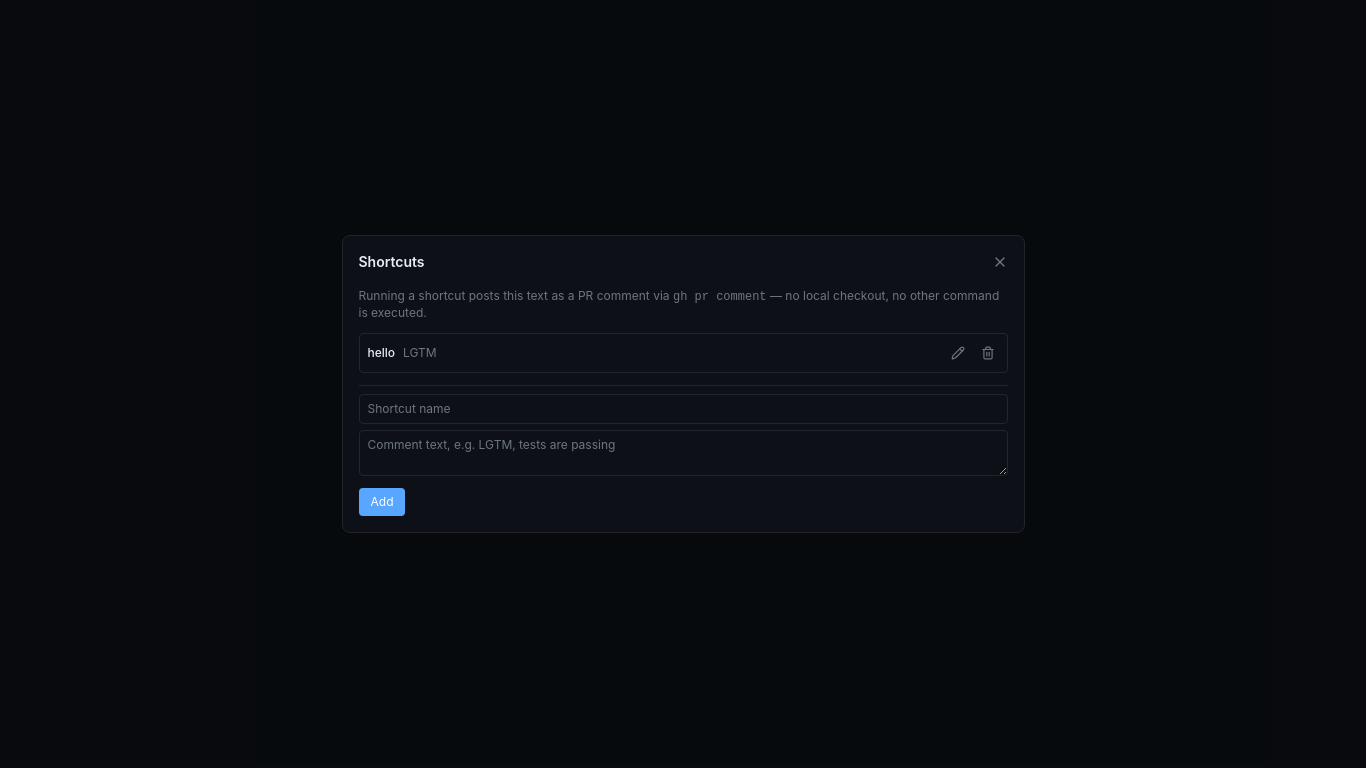
Test: ShortcutsManagerModal › deleting a shortcut removes the row
This screenshot has width=1366, height=768.
Click the button titled "Delete". click: (988, 353)
box: x1=976 y1=342 x2=998 y2=364
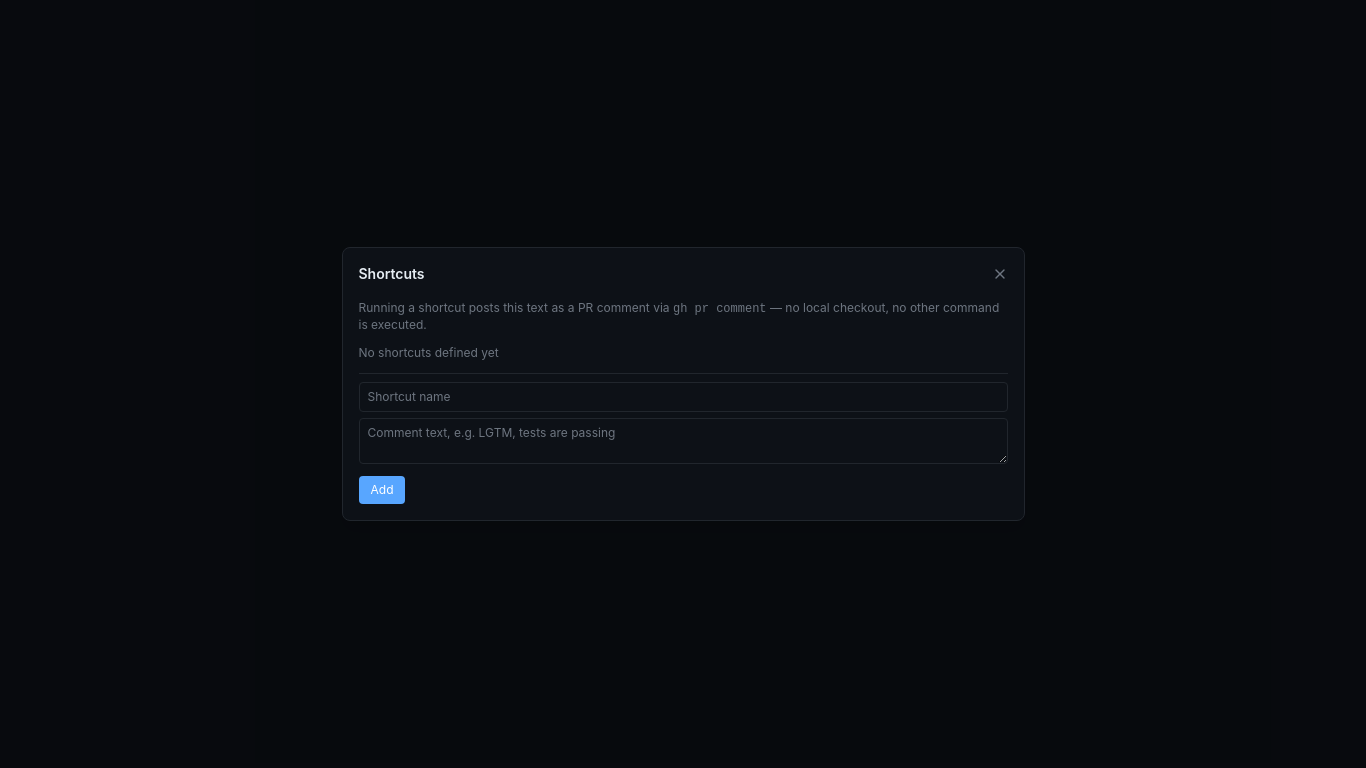
Result: the text "hello" is gone
